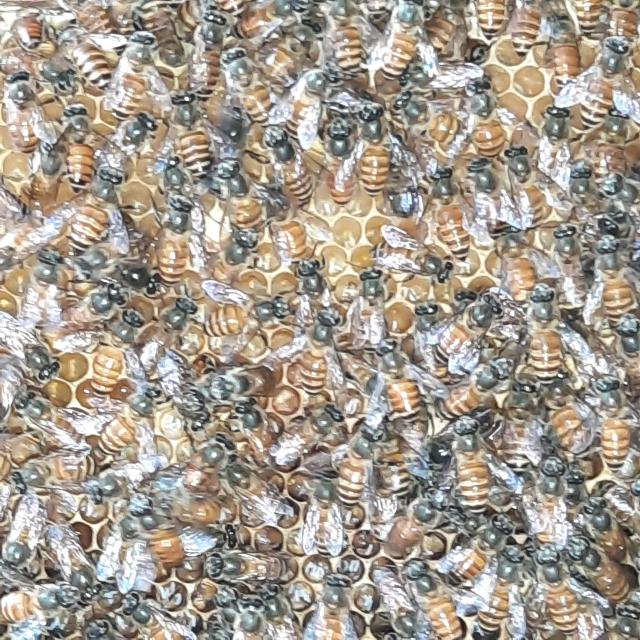honeybee: (463, 74, 555, 152), (262, 119, 324, 215), (535, 234, 599, 323), (443, 393, 492, 502), (190, 274, 272, 337), (327, 425, 379, 522), (375, 216, 444, 284), (589, 38, 640, 128), (515, 282, 564, 375), (373, 569, 437, 640), (0, 382, 72, 444), (33, 520, 105, 582), (163, 91, 220, 169), (194, 545, 288, 591), (73, 462, 144, 522), (386, 89, 460, 145), (162, 444, 218, 518), (222, 405, 288, 467), (278, 341, 339, 408), (275, 260, 338, 323), (111, 582, 179, 640), (350, 248, 396, 332), (230, 174, 280, 250), (442, 302, 508, 359), (5, 449, 66, 510), (0, 592, 90, 632), (592, 236, 636, 316), (322, 10, 377, 74), (0, 199, 77, 244), (566, 530, 620, 594), (603, 382, 640, 475), (4, 65, 44, 151), (537, 455, 573, 550), (58, 270, 138, 312), (384, 13, 431, 84), (398, 291, 449, 356), (491, 395, 534, 471), (243, 469, 314, 515), (54, 110, 98, 184), (580, 160, 630, 225), (539, 400, 593, 460), (458, 516, 502, 588), (184, 9, 224, 88), (398, 481, 438, 560), (199, 599, 276, 640), (426, 167, 464, 249), (2, 319, 55, 377), (60, 36, 112, 92), (98, 108, 156, 158), (526, 555, 572, 618), (100, 376, 144, 440), (371, 354, 416, 416), (115, 39, 152, 114), (534, 96, 571, 171), (224, 39, 258, 120), (317, 573, 358, 639), (576, 483, 628, 535), (150, 361, 202, 412), (156, 191, 186, 279), (506, 146, 541, 220), (598, 314, 640, 374), (465, 600, 525, 640), (94, 171, 125, 247), (332, 124, 358, 212), (282, 6, 315, 72), (150, 296, 194, 343), (20, 248, 59, 300), (361, 108, 391, 174), (206, 367, 270, 397), (304, 74, 350, 114), (470, 162, 500, 218), (512, 5, 536, 75), (214, 470, 238, 536), (18, 15, 47, 47)
